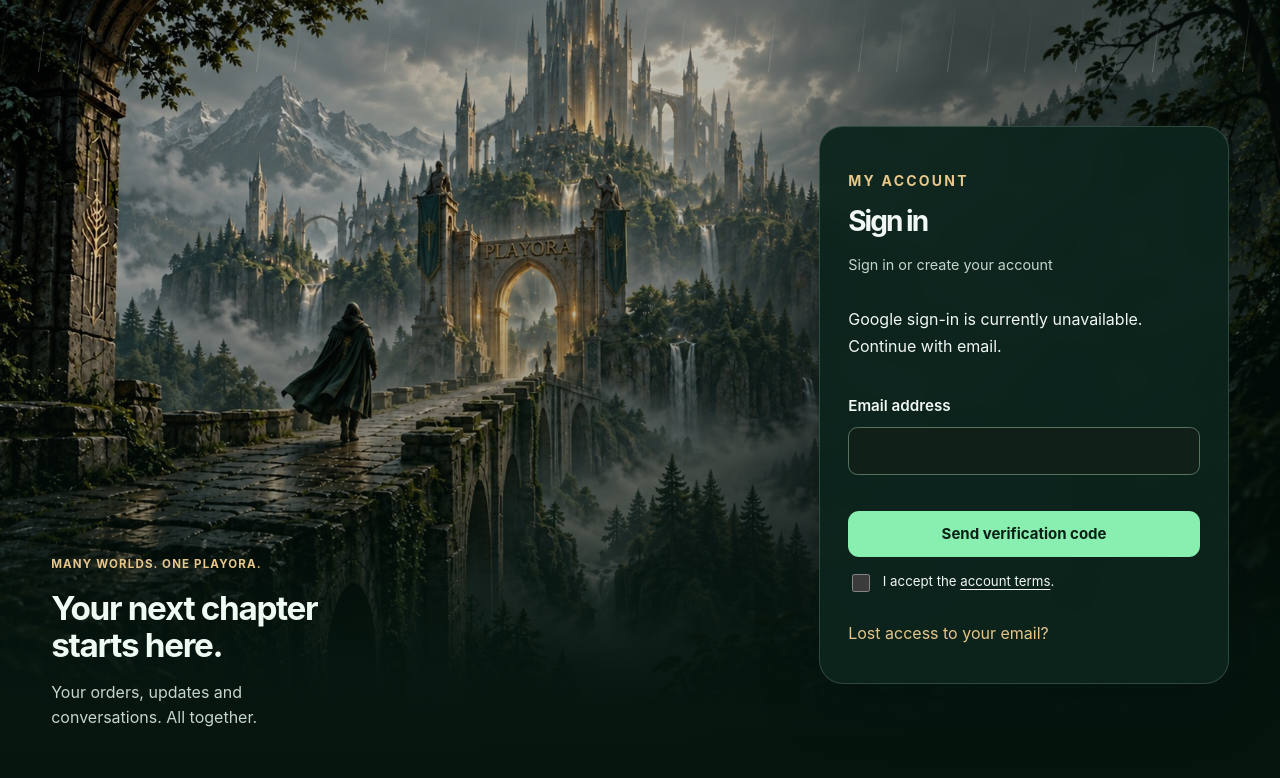
Test case: shows server timing and resends in the customer realm without signing in
Type "same@example.test" into the field labelled "Email address" at coordinates (1024, 451), box left=848, top=427, right=1200, bottom=475
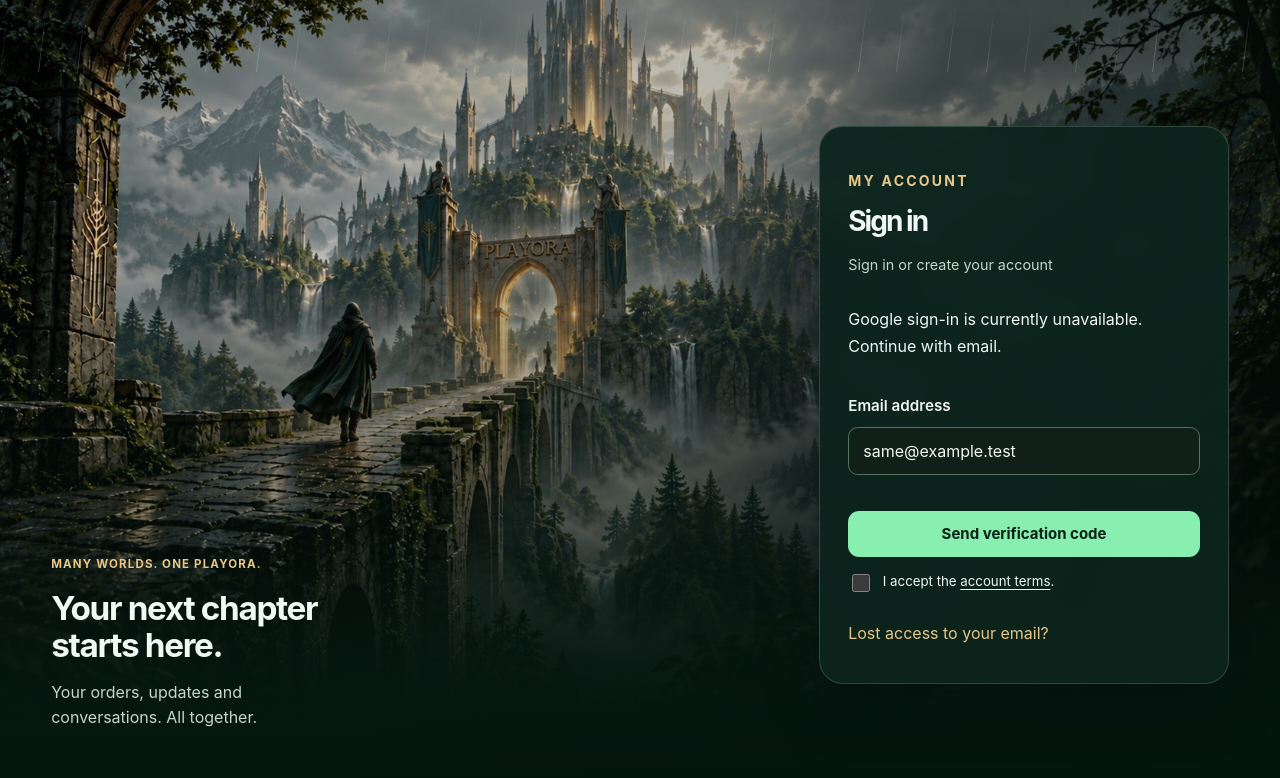
Click the checkbox at coordinates (861, 583), box left=852, top=574, right=870, bottom=592
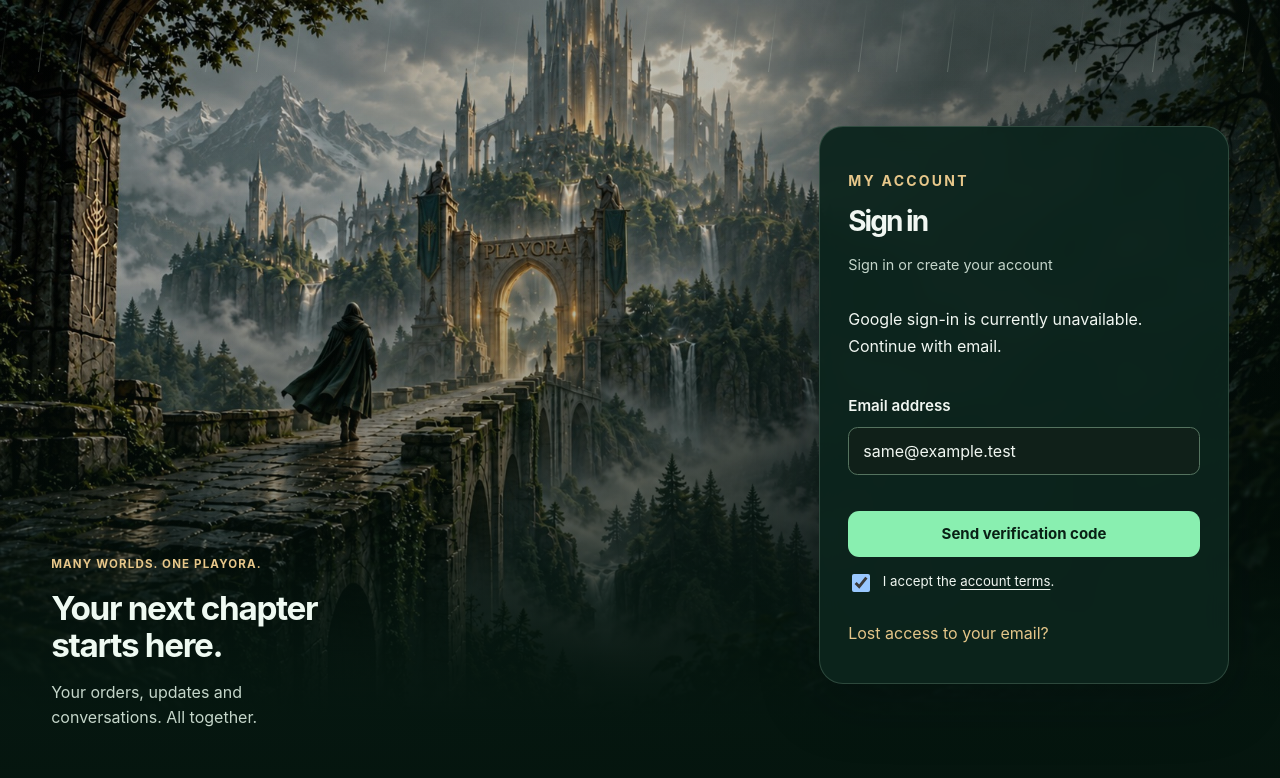
Submit the form "Send verification code", box left=848, top=395, right=1200, bottom=557
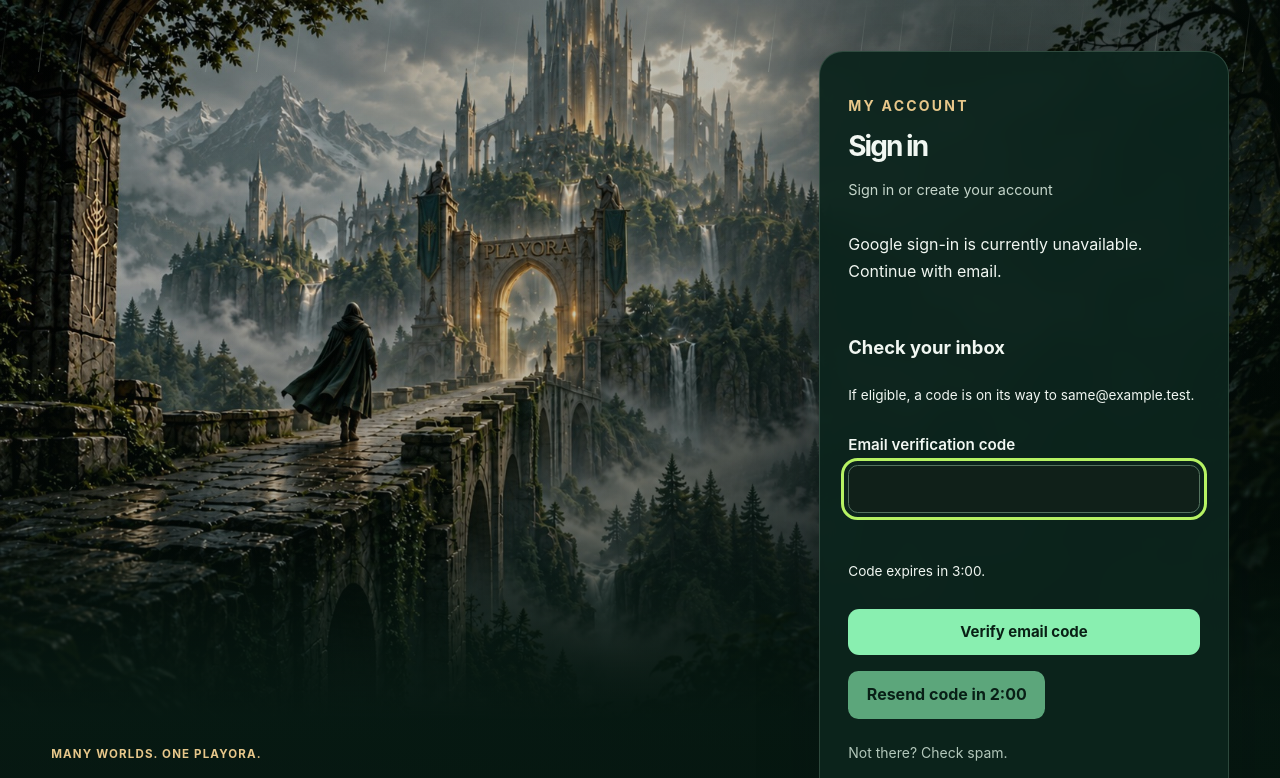
Now the button "Resend code in 2:00" is disabled, box left=848, top=671, right=1045, bottom=719
Now the button "Verify email code" is enabled, box left=848, top=609, right=1200, bottom=655
Now the text "Code expires in 3:00." is shown, box left=848, top=562, right=985, bottom=578
Type "123456" into the field labelled "Email verification code" at coordinates (1024, 489), box left=848, top=465, right=1200, bottom=513
Wait 120000 ms
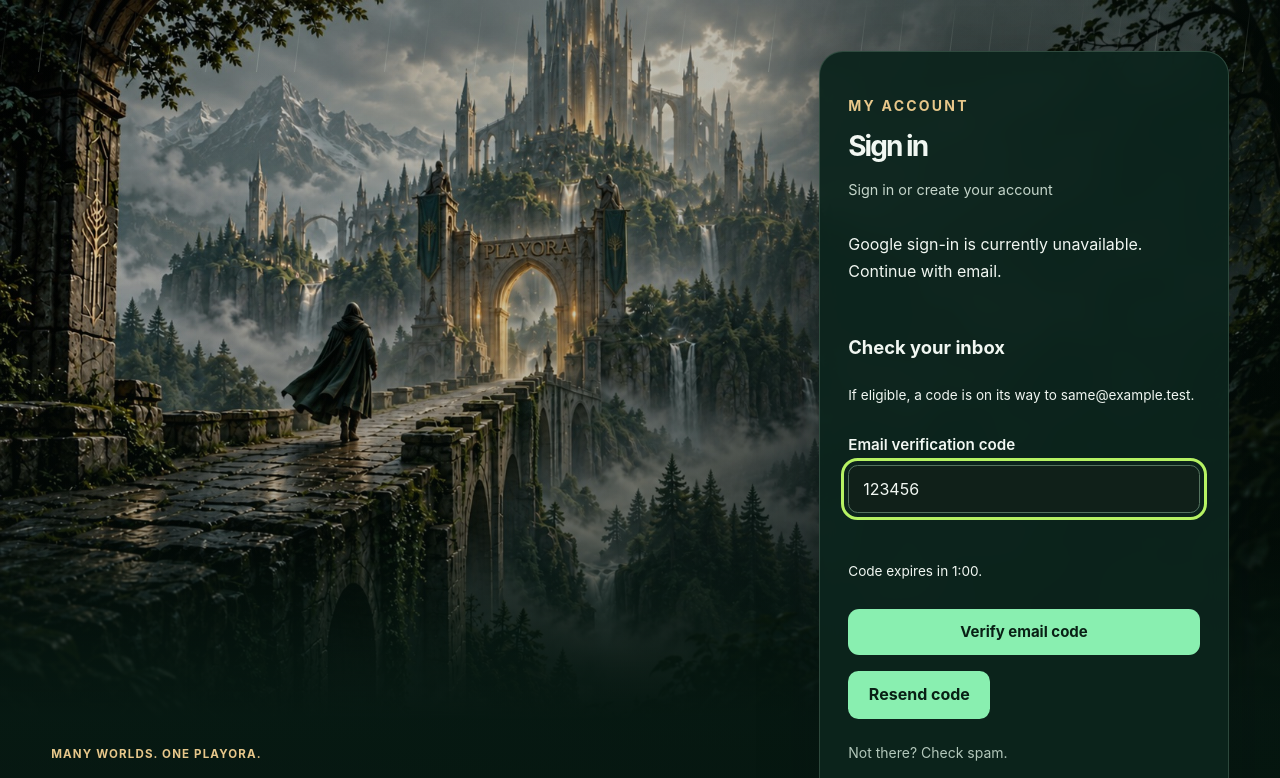
Click the button "Resend code" at coordinates (919, 695), box left=848, top=671, right=990, bottom=719
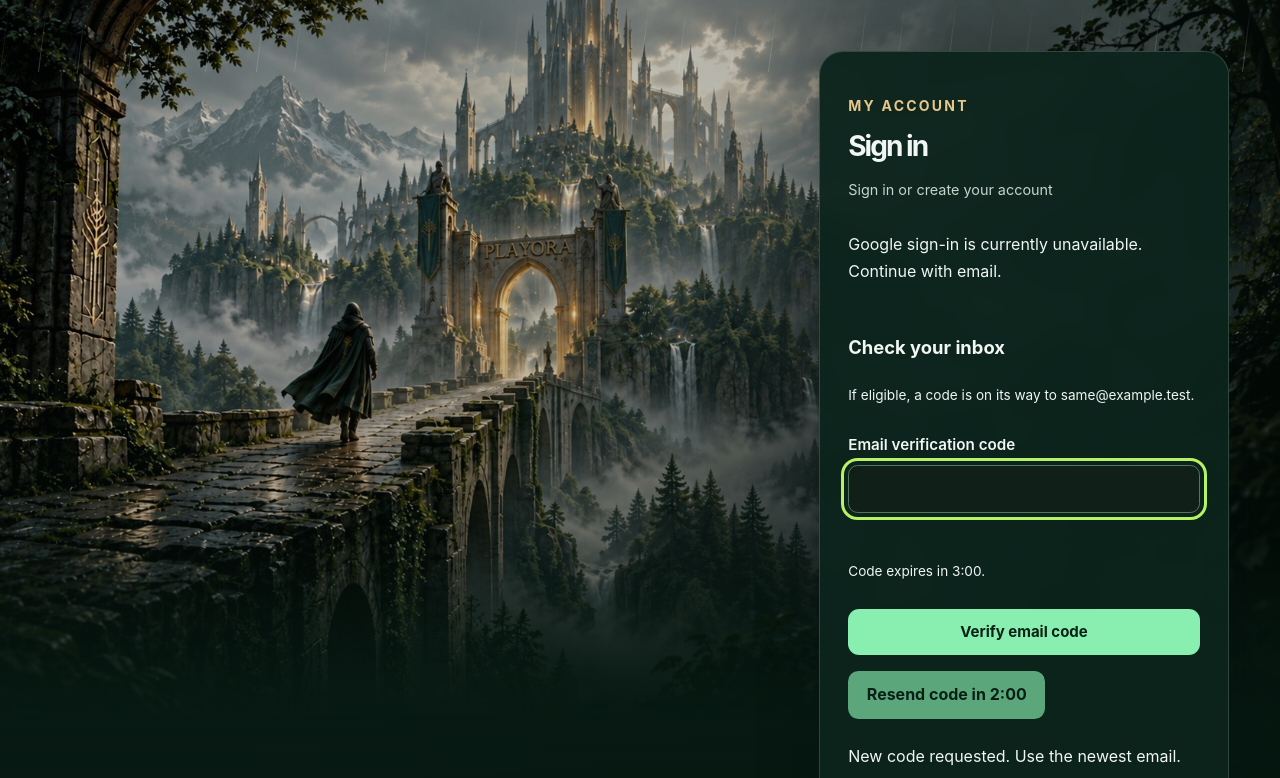
Now the field labelled "Email verification code" is empty, box left=848, top=465, right=1200, bottom=513
Now the button "Resend code in 2:00" is disabled, box left=848, top=671, right=1045, bottom=719
Now the text "New code requested. Use the newest email." is shown, box left=848, top=743, right=1200, bottom=769
